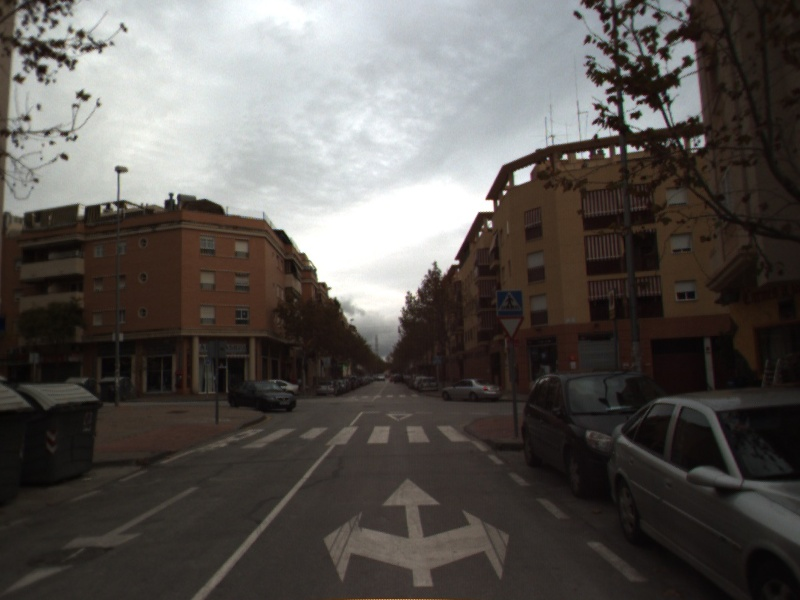STRAIGHT_LEFT_RIGHT: (321, 475, 512, 590)
